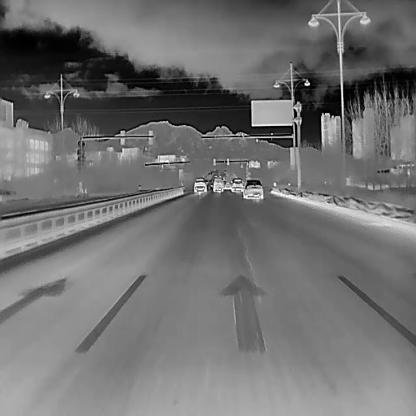car: (243, 179, 264, 199), (193, 176, 208, 192), (210, 177, 224, 192), (230, 177, 243, 193), (224, 181, 231, 189)
